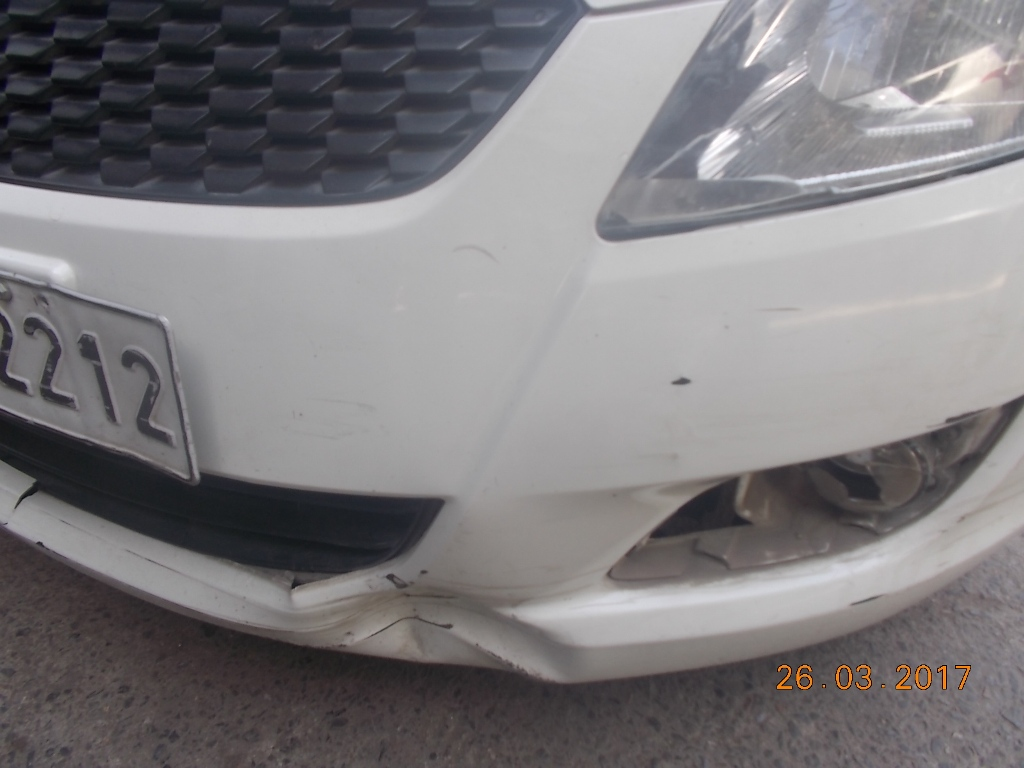Dislocation: (214, 424, 913, 745)
